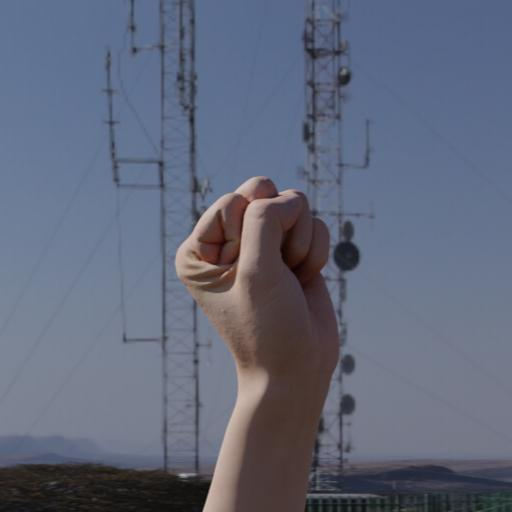S: (156, 166, 352, 512)
